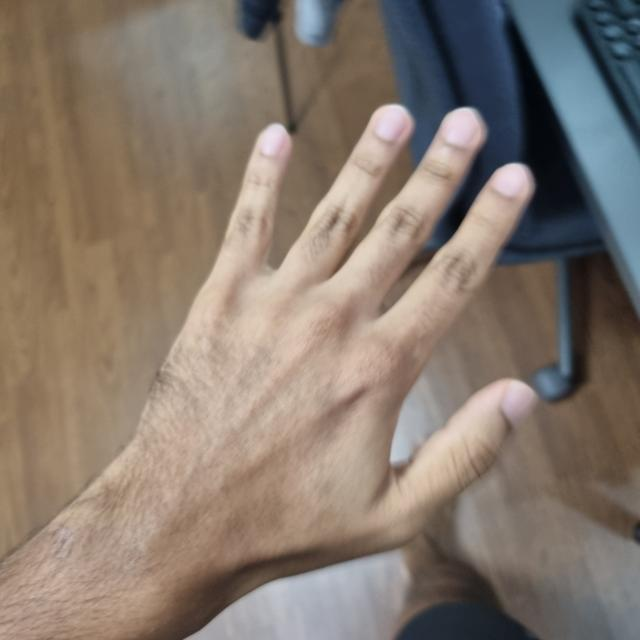Paper: (128, 109, 536, 577)
